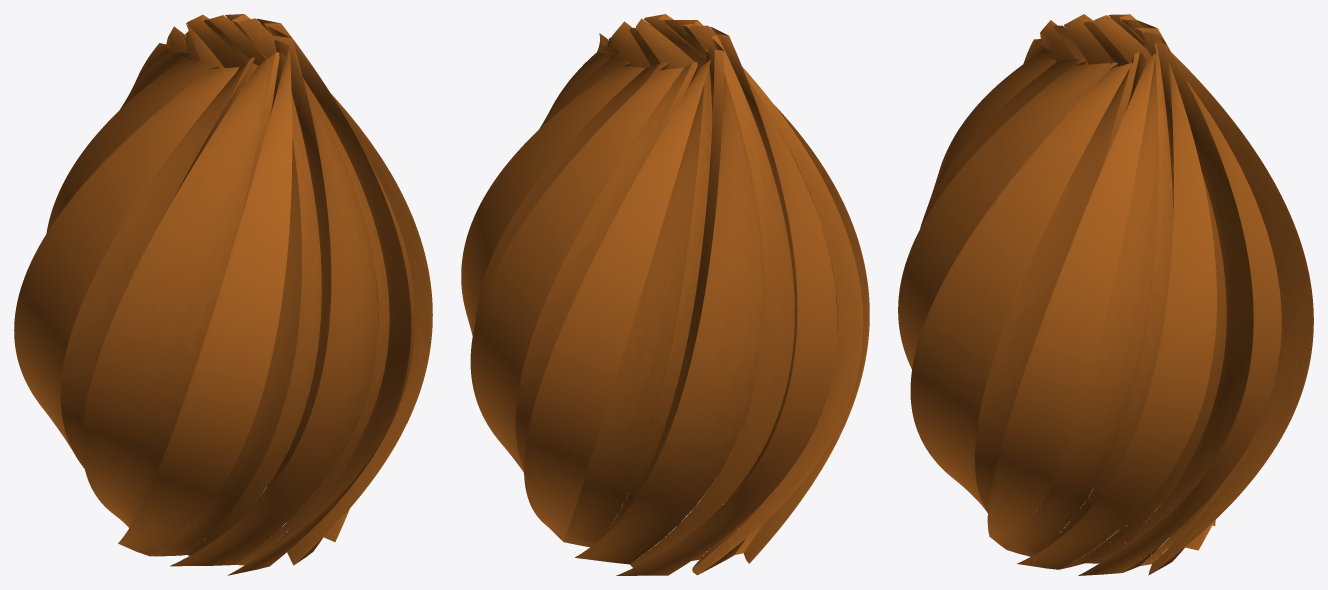
Rendered from blade-solo-b5651d.glb.
The picture shows the model from 3 angles, left to right: view 1: azimuth 30°, elevation 25°; view 2: azimuth 150°, elevation 25°; view 3: azimuth 270°, elevation 25°; orthographic projection.
Visible parts, largest first — view 1: Blade; view 2: Blade; view 3: Blade.
Part boxes in pixels (box(x1,y1,x2,y2)): Blade: box(14, 14, 432, 575); Blade: box(461, 14, 869, 575); Blade: box(898, 14, 1313, 575).
Size of the model in its own units: 0.2775 by 0.37 by 0.2841.
